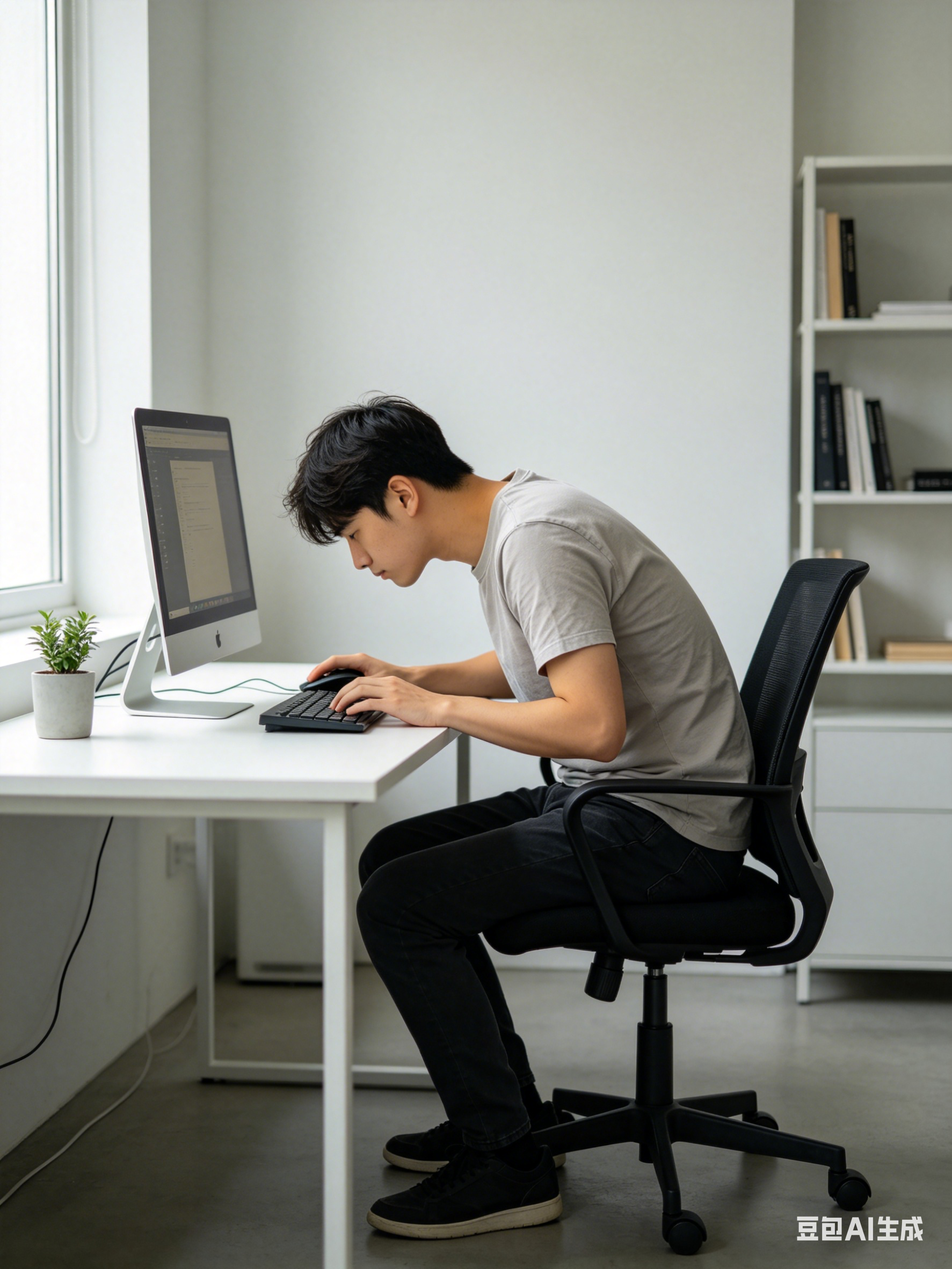sitting_bad: (284, 396, 734, 1193)
